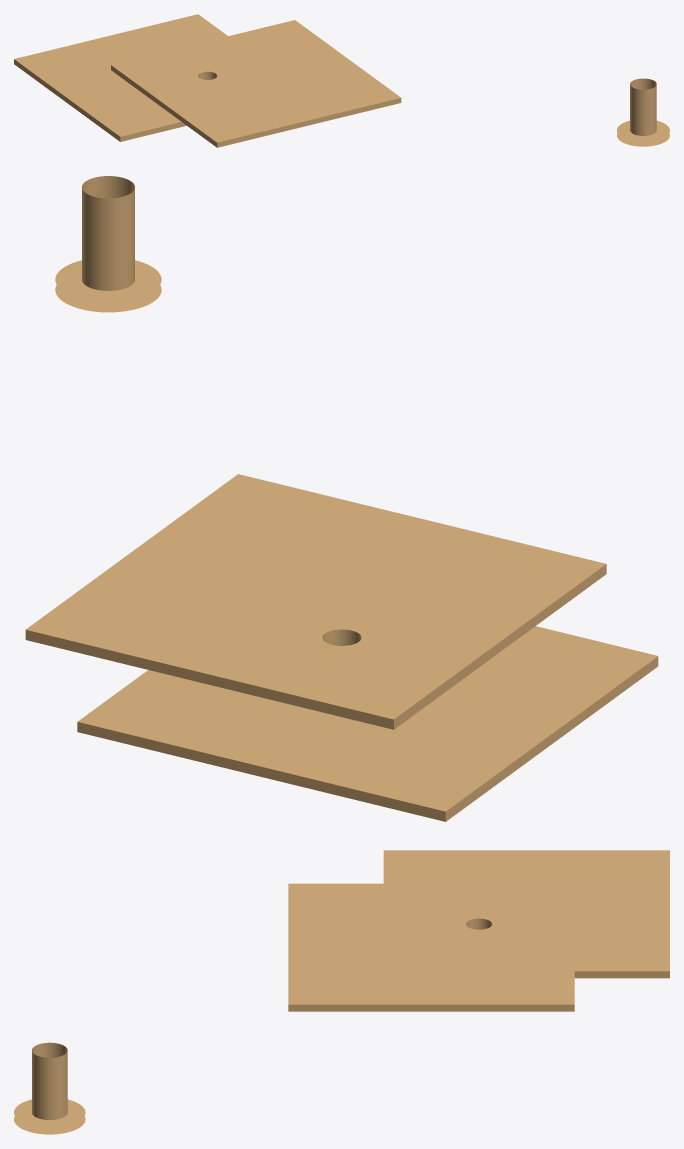
The model's file is board.glb.
The picture shows the model from 3 angles, top to bottom: view 1: azimuth 30°, elevation 25°; view 2: azimuth 150°, elevation 25°; view 3: azimuth 270°, elevation 25°; orthographic projection. The views are drawn at different scales.
Visible parts, largest first — view 1: Substrate_Layer_1_Z0, Substrate_Layer_0_Z0, Bare_Tube_3, Unified_Via_2, Unified_Via_4; view 2: Substrate_Layer_1_Z0, Substrate_Layer_0_Z0, Bare_Tube_3, Unified_Via_2; view 3: Substrate_Layer_1_Z0, Substrate_Layer_0_Z0, Bare_Tube_3, Unified_Via_2.
Part boxes in pixels (x1,y1,x2,y2): Substrate_Layer_1_Z0: [111, 20, 401, 147]; Substrate_Layer_0_Z0: [14, 14, 227, 141]; Bare_Tube_3: [630, 78, 656, 135]; Unified_Via_2: [617, 120, 669, 146]; Unified_Via_4: [193, 70, 220, 81]; Substrate_Layer_1_Z0: [25, 474, 606, 729]; Substrate_Layer_0_Z0: [77, 626, 658, 821]; Bare_Tube_3: [82, 176, 134, 290]; Unified_Via_2: [55, 260, 161, 312]; Substrate_Layer_1_Z0: [288, 883, 574, 1011]; Substrate_Layer_0_Z0: [383, 850, 669, 978]; Bare_Tube_3: [32, 1042, 67, 1119]; Unified_Via_2: [14, 1099, 85, 1134].
Size of the model in its own units: 0.0138 by 0.0016 by 0.0138.
